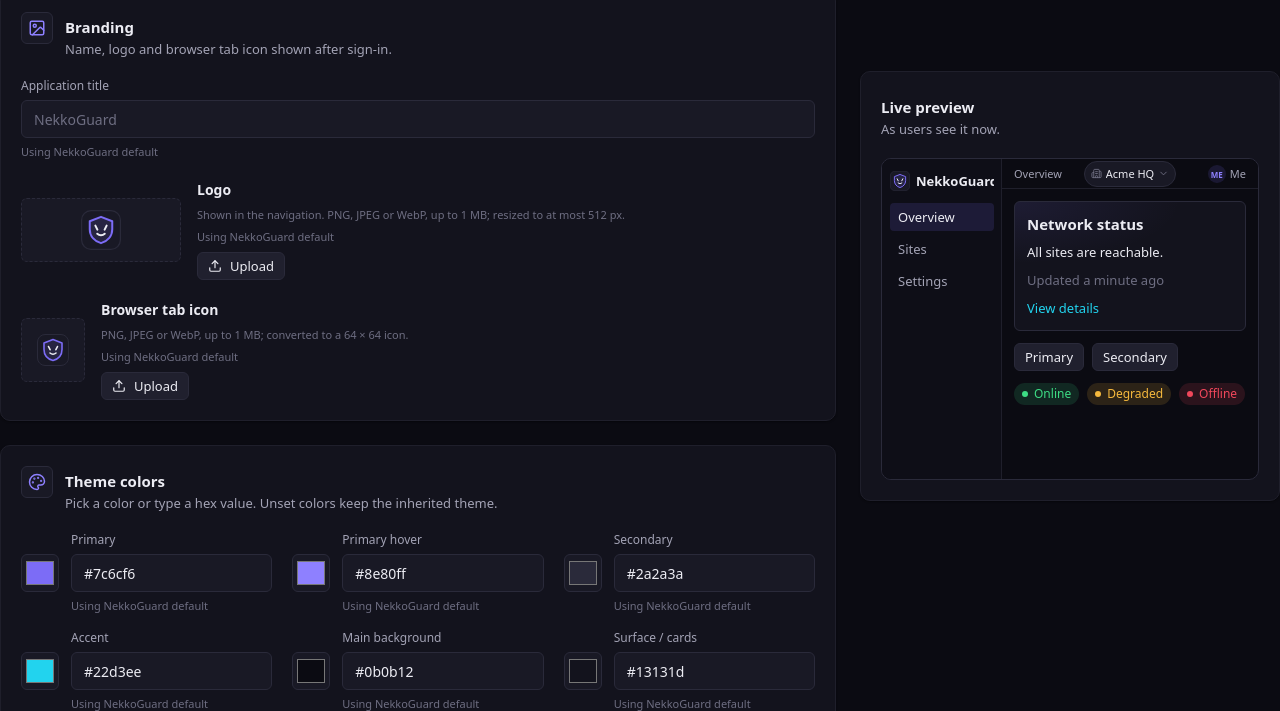
Test case: Appearance editor › cancel discards unsaved changes
Type "Draft" into the field labelled "Application title".
click(418, 119); type("Draft")  # box 22,101 -> 814,137
(page scrolled)
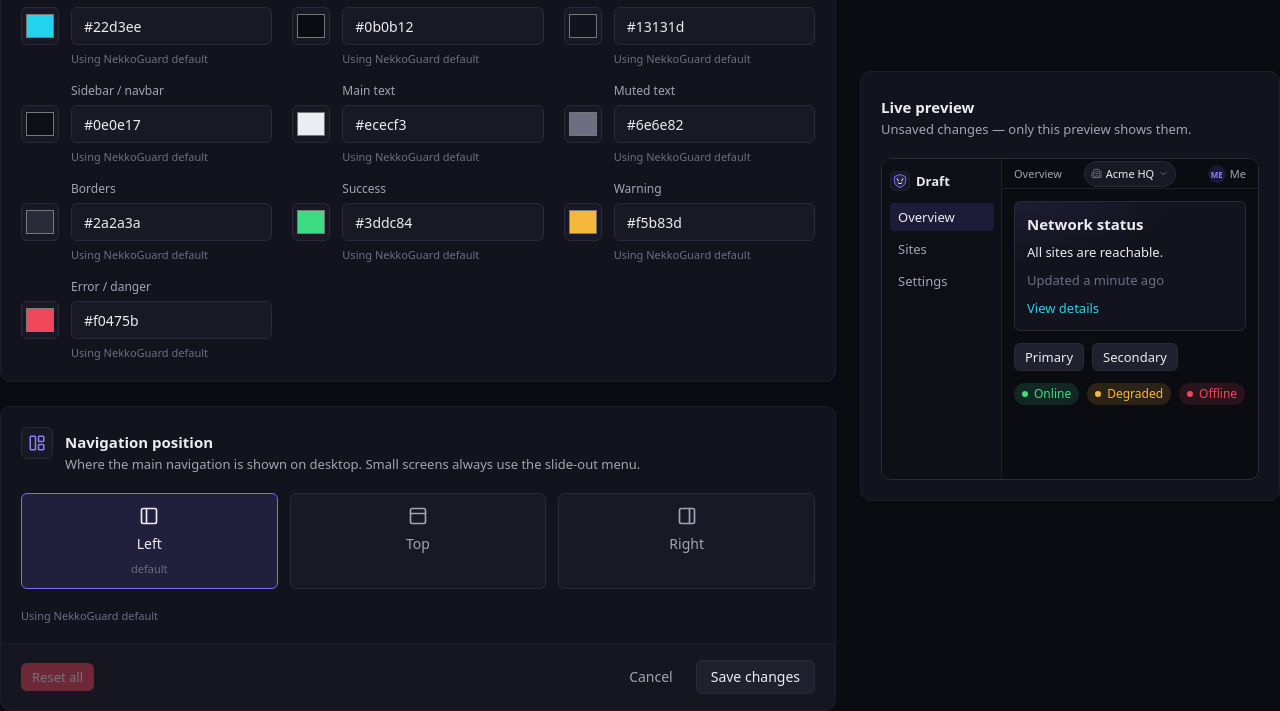
Click the button "Cancel".
click(651, 677)  # box 614,660 -> 688,694
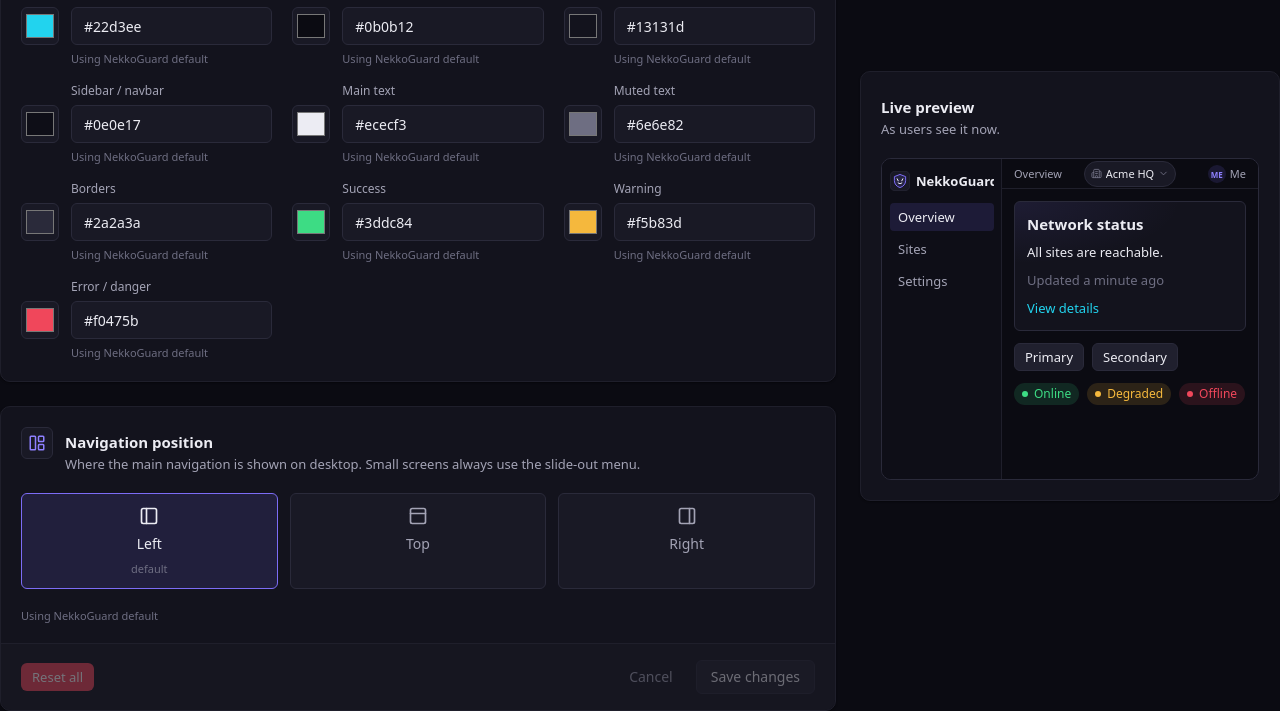
Now the button "Save changes" is disabled, box 696,660 -> 815,694
